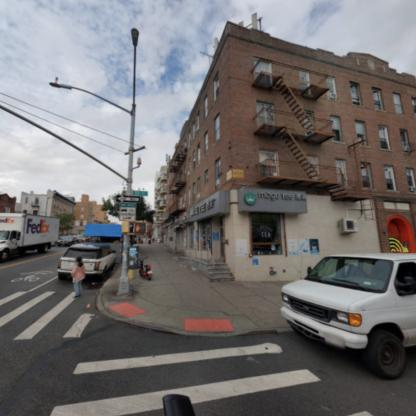Streetlights 1: (35, 63, 167, 328)
